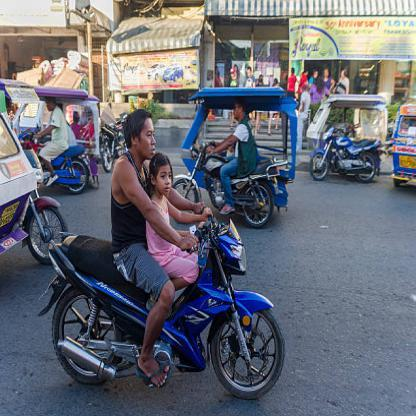Motorcycle: (39, 215, 285, 403)
